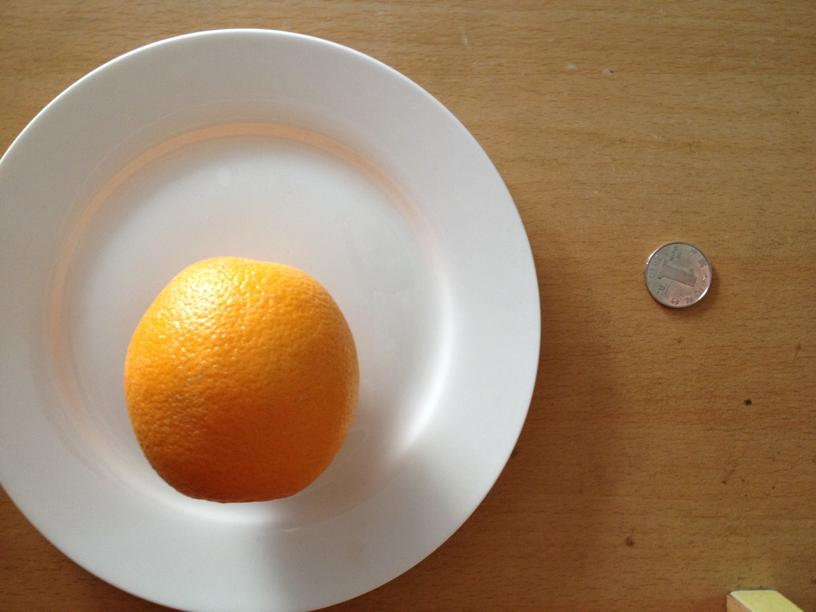coin: (645, 239, 713, 309)
orange: (123, 252, 360, 502)
